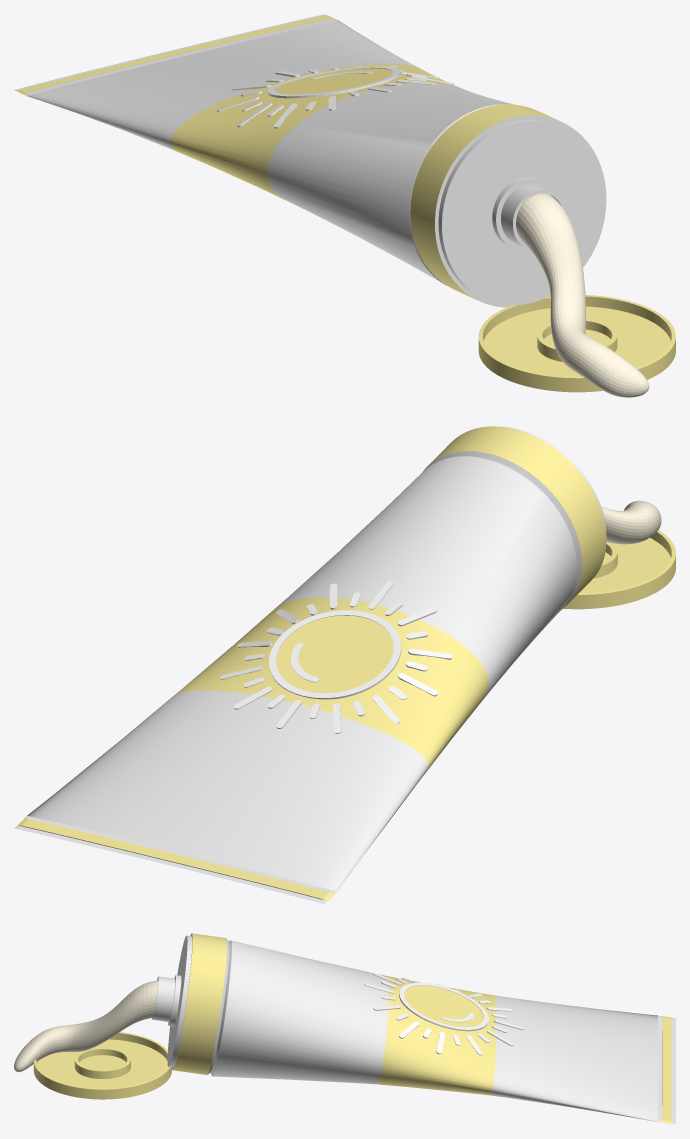
Rendered from sunscreen (2).fbx.
3 views of the same model, one above another, from view 1: azimuth 30°, elevation 25°; view 2: azimuth 150°, elevation 25°; view 3: azimuth 270°, elevation 25° (orthographic). The views are drawn at different scales.
Parts seen in each view (by area): view 1: Circle.001; view 2: Circle.001; view 3: Circle.001.
Part boxes in pixels (left/top/right/bottom): Circle.001: left=14, top=14, right=675, bottom=397; Circle.001: left=14, top=426, right=675, bottom=904; Circle.001: left=14, top=933, right=675, bottom=1124.
Bounding box in the file's own units: 419 × 241 × 1100.
